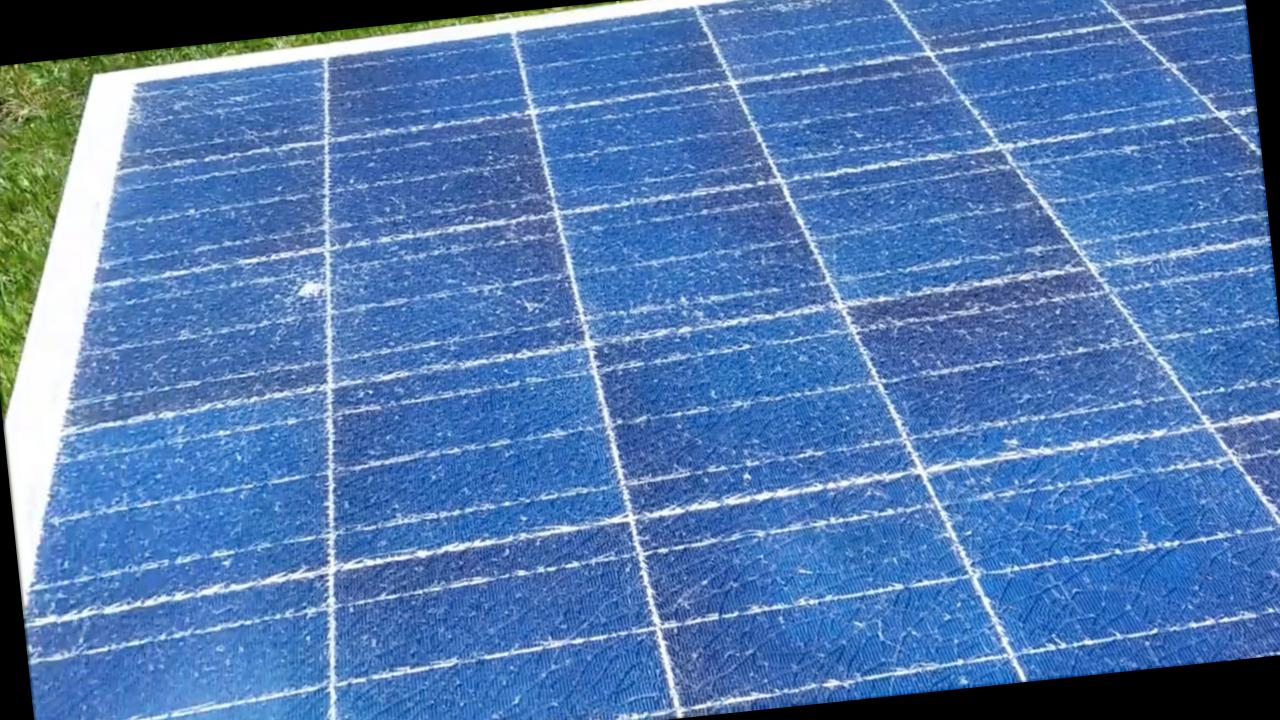Crack: (256, 238, 358, 324)
